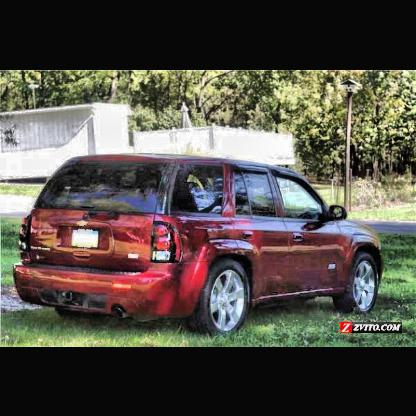Chevrolet TrailBlazer SS 2009: (13, 154, 386, 336)
